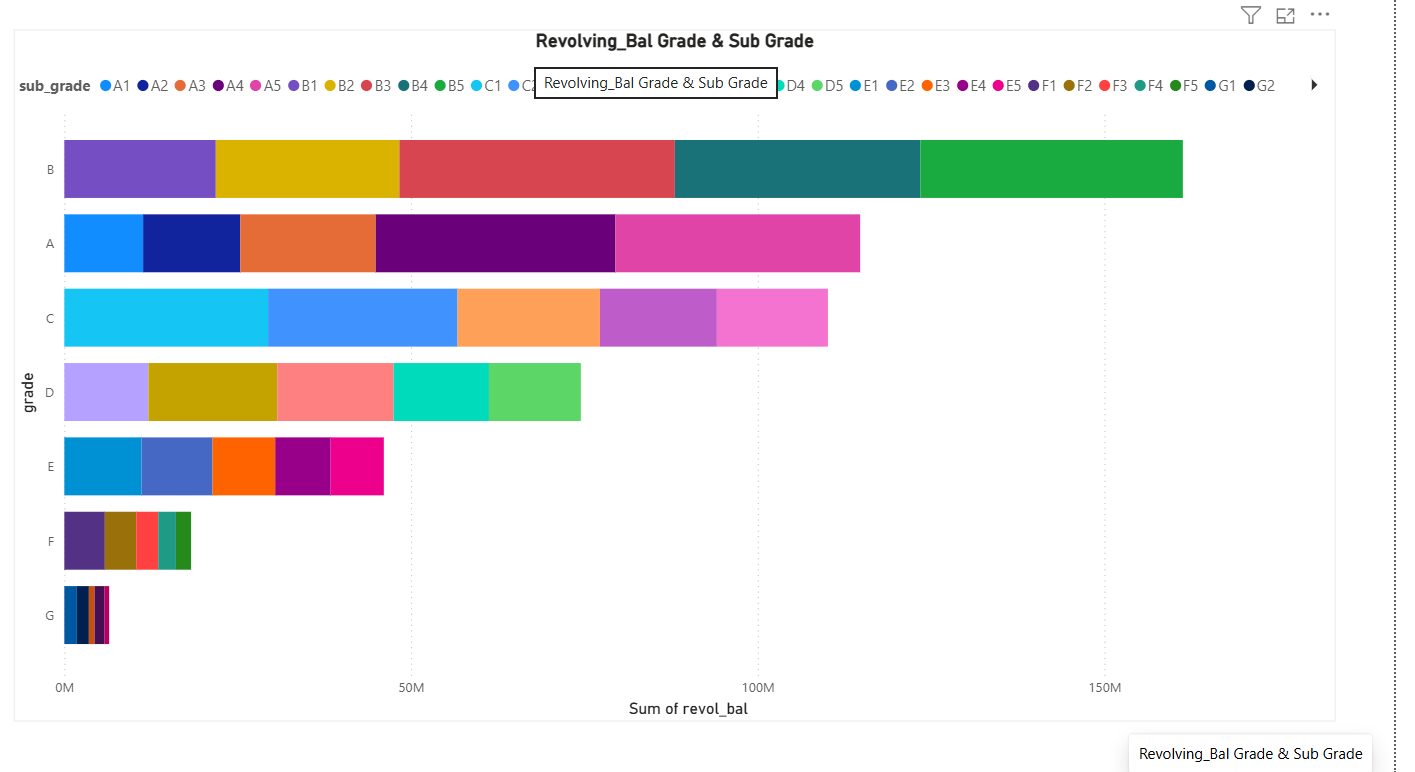

The page's visual inventory and layout, read from the dashboard file:
{"tool":"powerbi","page":{"name":"Revolving_Bal Grade & Sub Grade","canvas":[1280,720],"ordinal":5},"visuals":[{"type":"barChart","title":"Revolving_Bal Grade & Sub Grade","fields":{"Category":["Finance_1 - Finance_1.grade"],"Series":["Finance_1 - Finance_1.sub_grade"],"Y":["Sum(Finance_2 xlsx - Sheet1.revol_bal)"]},"box":[35.5,42.8,1192.3,624.9],"z":0}]}

Visuals, with their boxes on the page's 1280x720 design canvas (x1, y1, x2, y2). These are canvas units, not pixel positions in the 1415x772 screenshot, which may show the page scaled, cropped or inside an application window:
"Revolving_Bal Grade & Sub Grade" barChart: rect(36, 43, 1228, 668)
